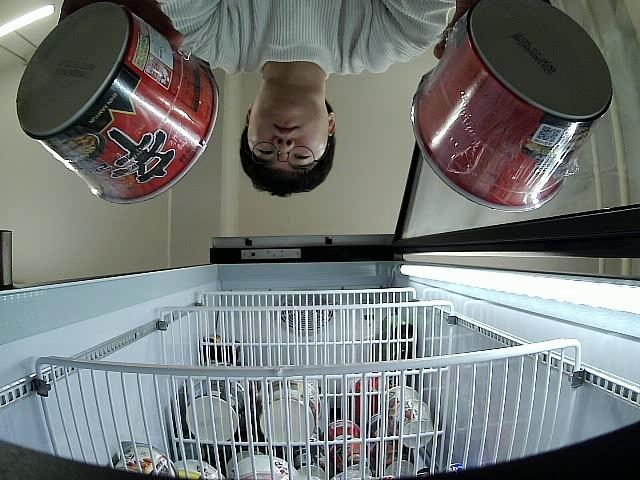01_ShinRamen_L: (410, 0, 614, 214), (14, 1, 220, 204)
